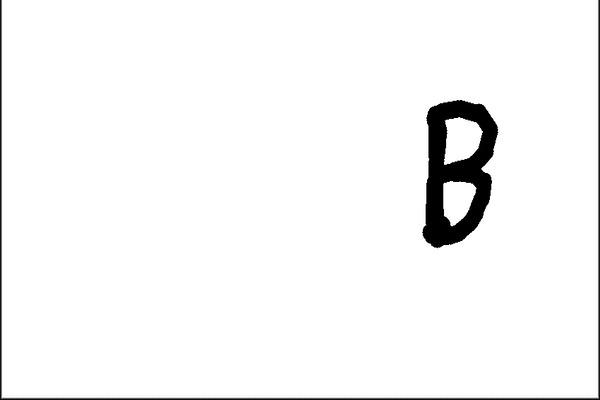B: (409, 90, 505, 251)
